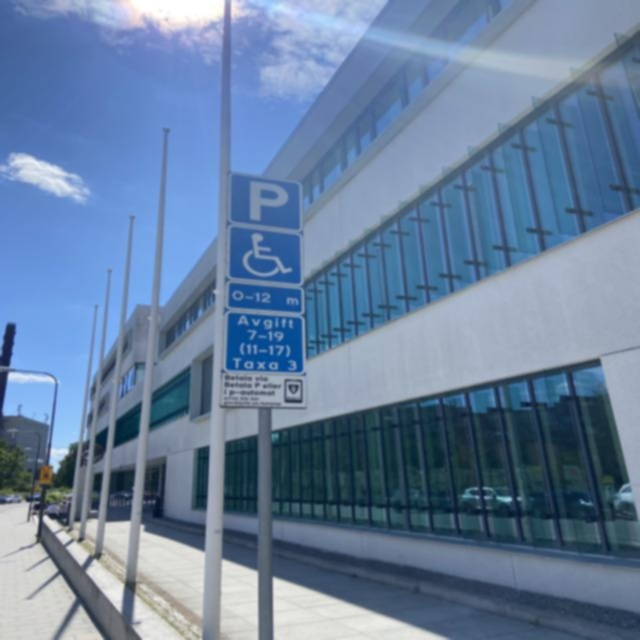P-skylt: (226, 170, 310, 234)
